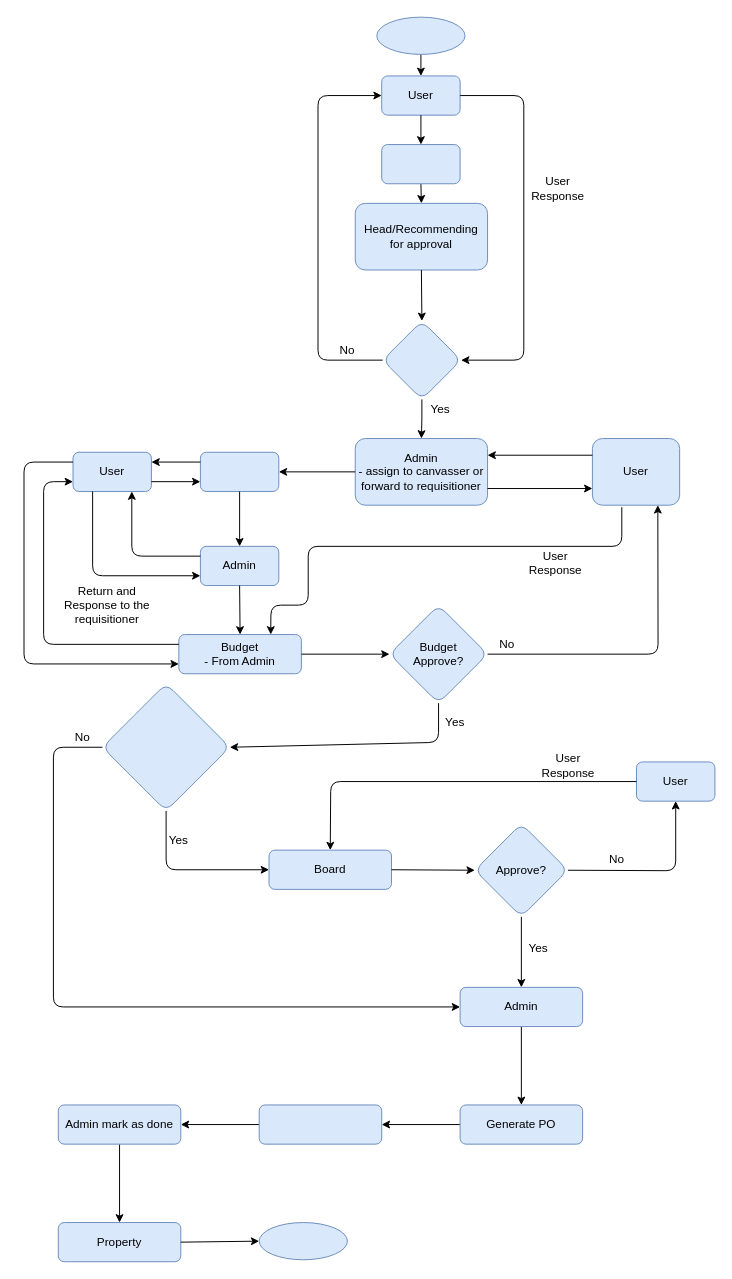
Some shapes in this 732 by 1279 pixel diagram are drawn without their labels. The shapes that lost their labels are listed below. From the top down, each one's centre as x and y in pixels, then its label:
At (420,35): "Start".
At (420,164): "Request item(s)".
At (421,359): "Approved?".
At (239,471): "Canvasser".
At (165,747): "Greater than amount limit?".
At (320,1124): "Auditor".
At (302,1241): "End".
